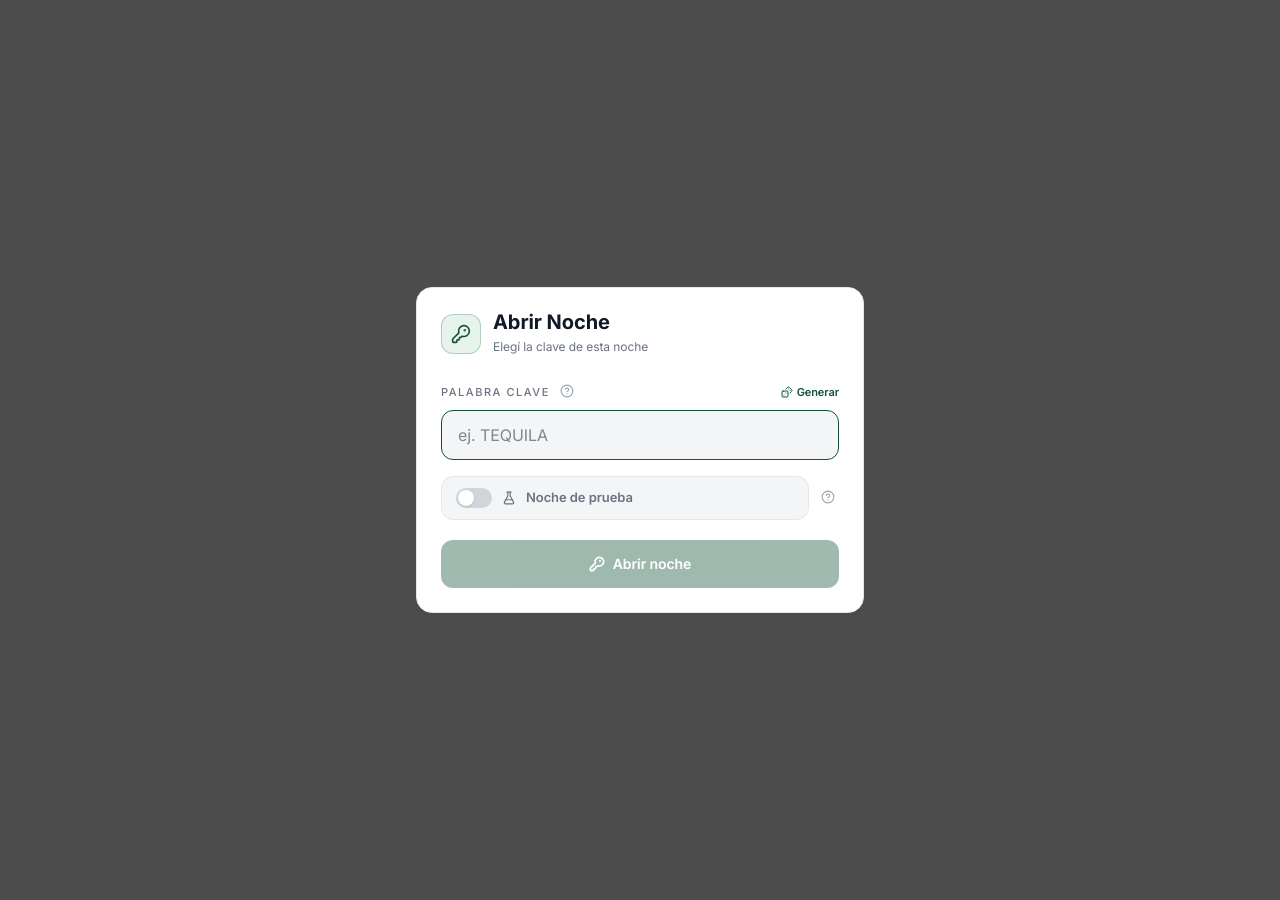
OpenNightModal › modo open › muestra el error del service cuando falla la apertura
Type "MOJITO" into the field with placeholder "ej. TEQUILA" at (640, 435), box [441,410,839,460]
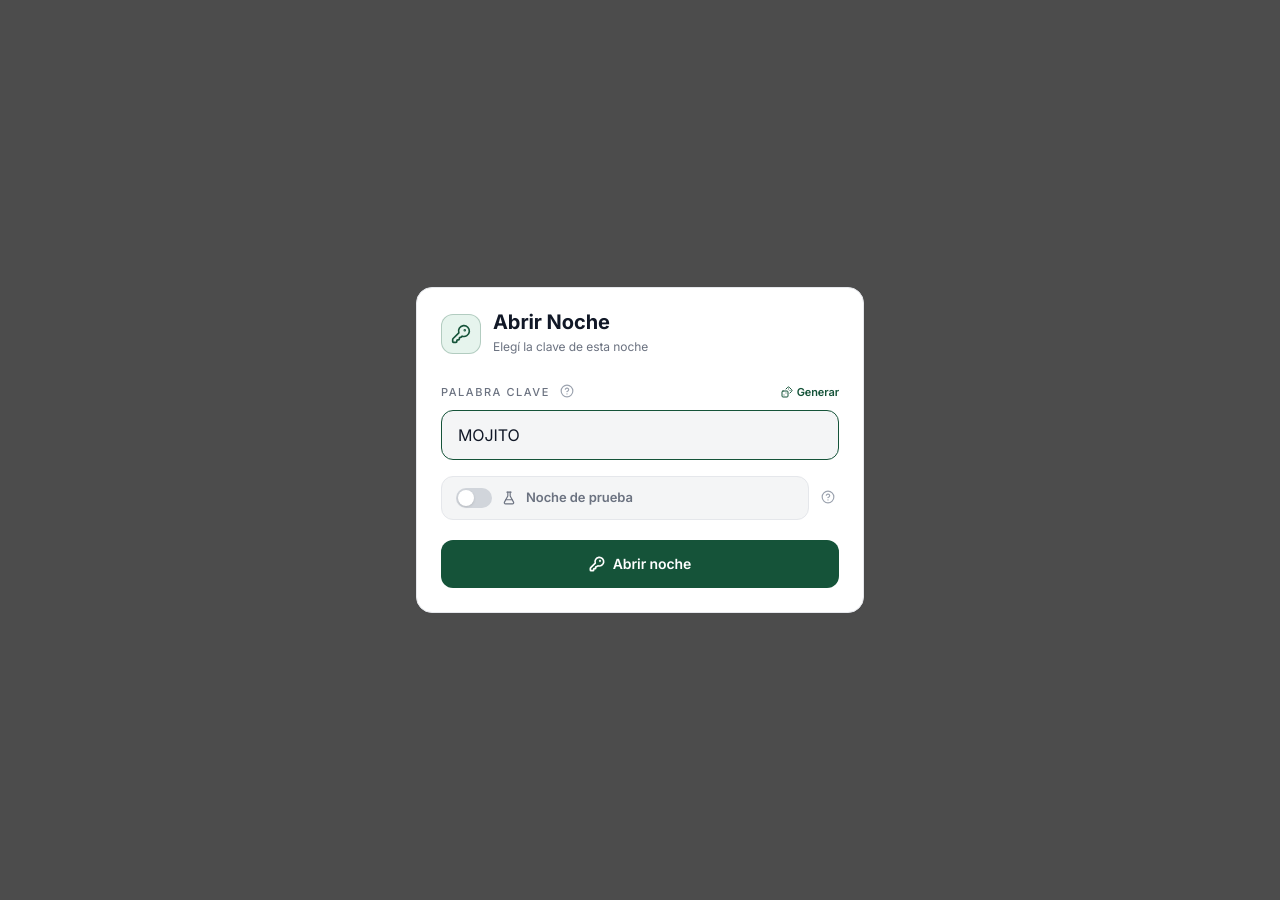
Click the button "Abrir noche" at (640, 564), box [441,540,839,588]
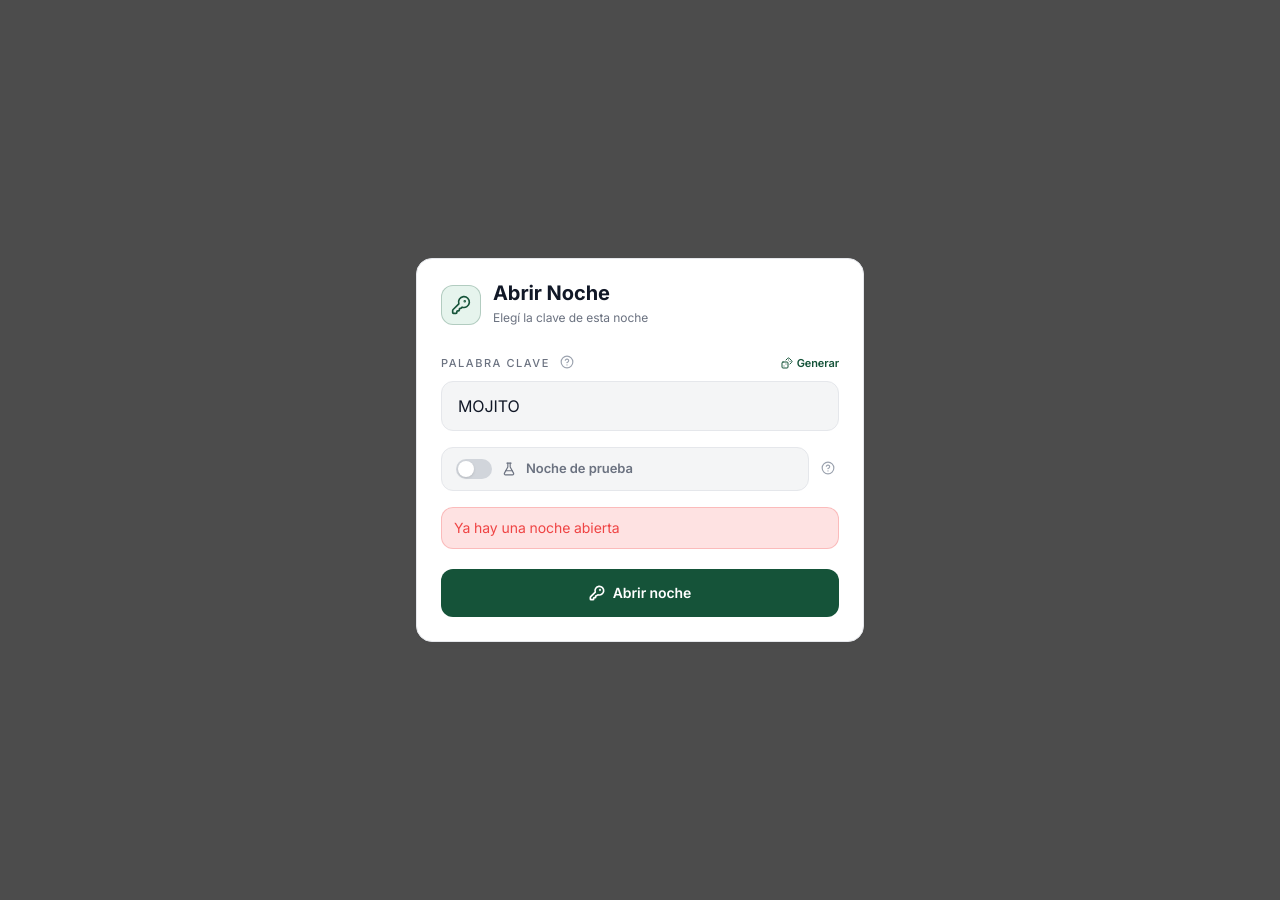
Result: the text "Ya hay una noche abierta" is shown at [441,507,839,549]
